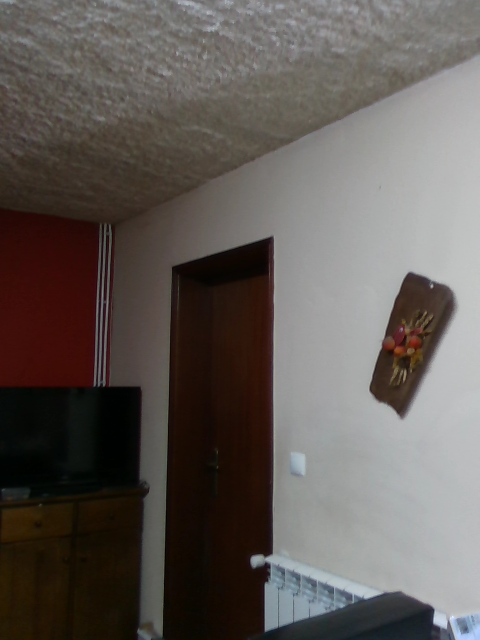closed: (164, 234, 276, 638)
